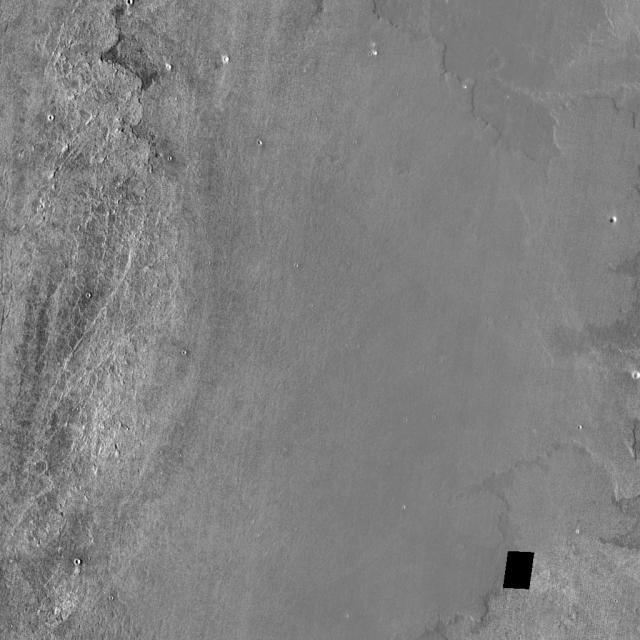crater: (616, 215, 625, 224)
